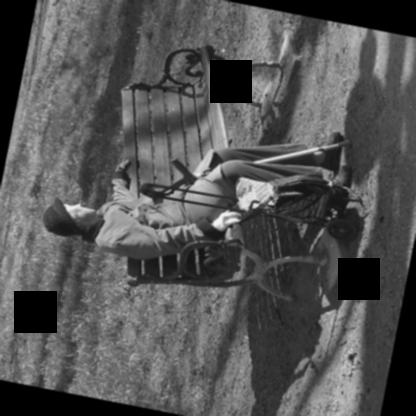suitcase: (142, 174, 357, 246)
